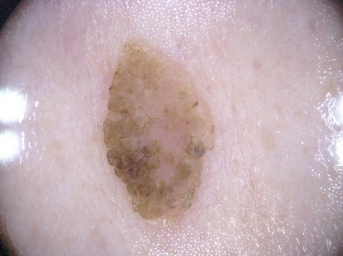seborrheic keratosis: (84, 31, 219, 232)
